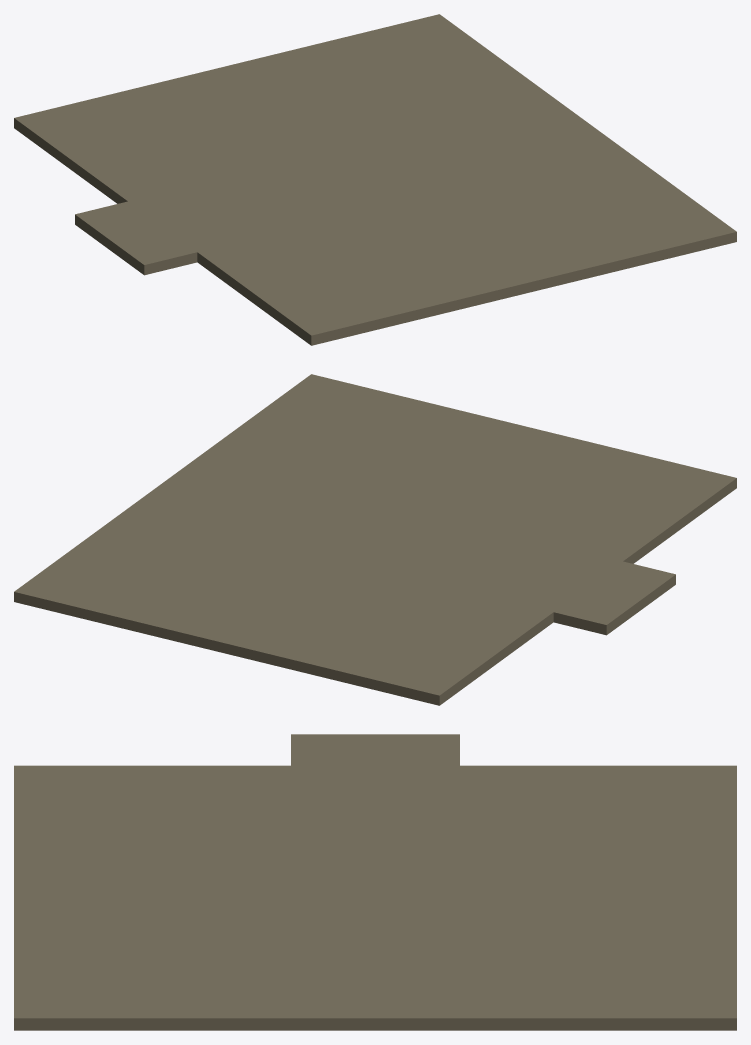
File: TempleTile_N.fbx
The picture shows the model from 3 angles, top to bottom: view 1: azimuth 30°, elevation 25°; view 2: azimuth 150°, elevation 25°; view 3: azimuth 270°, elevation 25°; orthographic projection. The views are drawn at different scales.
Parts seen in each view (by area): view 1: TempleTile_N; view 2: TempleTile_N; view 3: TempleTile_N.
Boxes of the visible parts, box(x1,y1,x2,y2) form: TempleTile_N: box(14, 14, 736, 345); TempleTile_N: box(14, 374, 736, 705); TempleTile_N: box(14, 734, 736, 1030).
Bounding box in the file's own units: 2223 × 45.32 × 2392.
